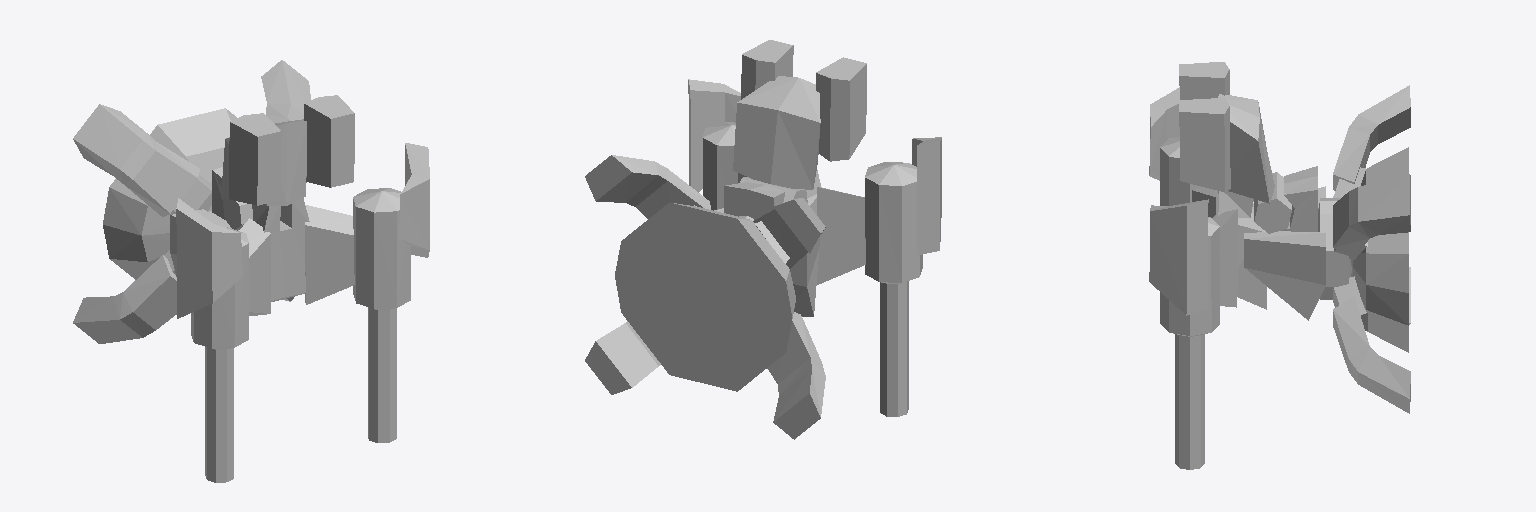
The model's file is turret-02.obj.
The picture shows the model from 3 angles: view 1: azimuth 30°, elevation 25°; view 2: azimuth 150°, elevation 25°; view 3: azimuth 270°, elevation 25°; orthographic projection.
Visible parts, largest first — view 1: turret_02; view 2: turret_02; view 3: turret_02.
Part boxes in pixels (x1,y1,x2,y2): turret_02: (73, 60, 429, 482); turret_02: (585, 40, 941, 439); turret_02: (1149, 62, 1410, 469).
Bounding box in the file's own units: 4.99 × 6.37 × 4.48.